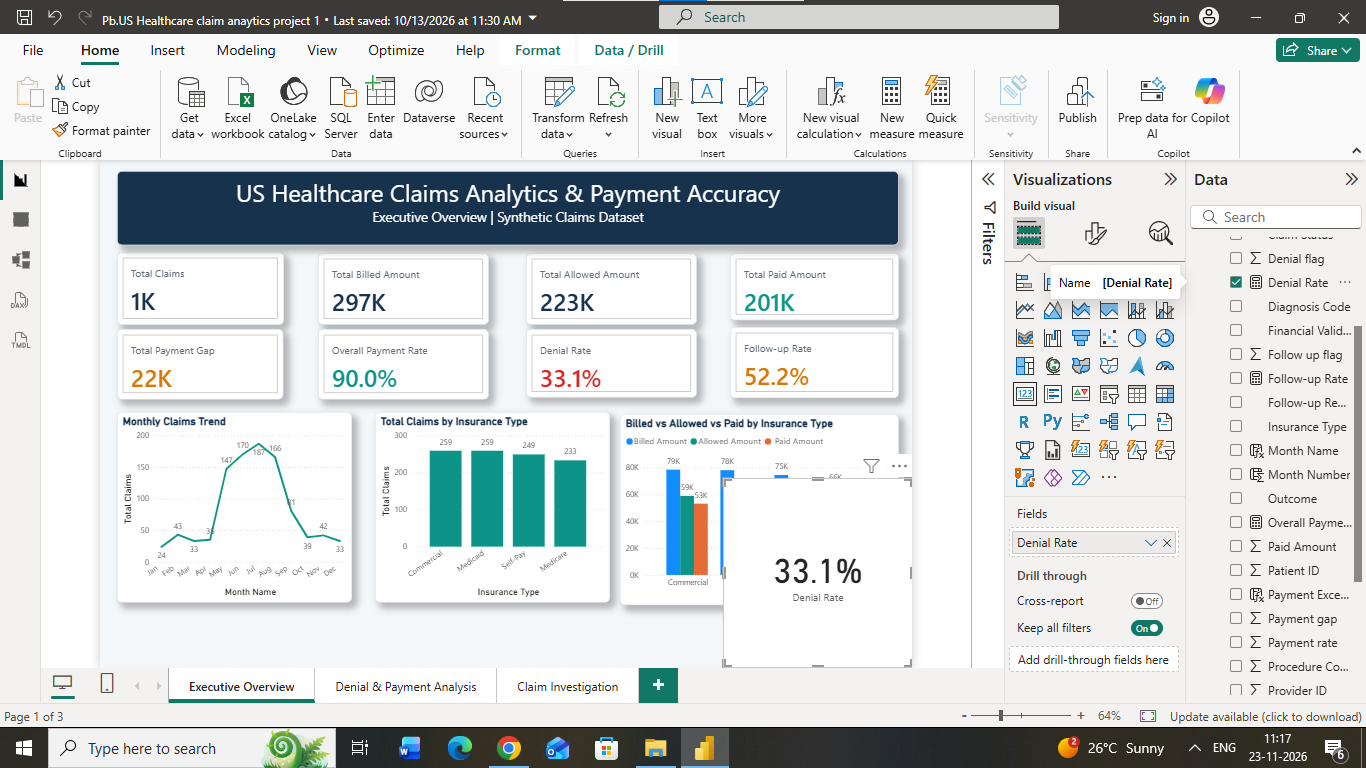

This screenshot's page, from the dashboard's own definition file:
{"tool":"powerbi","page":{"name":"Executive Overview","canvas":[1280,800],"ordinal":0},"visuals":[{"type":"cardVisual","fields":{"Data":["claim_data.Total Claims"]},"box":[26.8,144.9,263,115],"z":0},{"type":"cardVisual","fields":{"Data":["claim_data.Total Billed Amount","claim_data.Total Billed Amount"]},"box":[343,146,269.3,113.4],"z":1000},{"type":"cardVisual","fields":{"Data":["claim_data.Total Allowed Amount"]},"box":[670.4,146,269.3,113.4],"z":2000},{"type":"cardVisual","fields":{"Data":["claim_data.Total Paid Amount"]},"box":[992.1,146,266.5,106.3],"z":3000},{"type":"cardVisual","fields":{"Data":["claim_data.Total Payment Gap"]},"box":[27.4,266.4,262.1,110.9],"z":4000},{"type":"cardVisual","fields":{"Data":["claim_data.Overall Payment Rate"]},"box":[342.7,266.4,269.3,110.9],"z":5000},{"type":"cardVisual","fields":{"Data":["claim_data.Denial Rate"]},"box":[671,266.4,269.3,108],"z":6000},{"type":"cardVisual","fields":{"Data":["claim_data.Follow-up Rate"]},"box":[992.1,263,266.1,111.8],"z":7000},{"type":"textbox","box":[26.8,17.3,1231.5,116.5],"z":8000},{"type":"lineChart","title":"Monthly Claims Trend","fields":{"Y":["claim_data.Total Claims"],"Category":["claim_data.Month Name"]},"box":[26.9,396.9,370,300],"z":9000},{"type":"clusteredColumnChart","fields":{"Category":["claim_data.Insurance Type"],"Y":["claim_data.Total Claims"]},"box":[433.7,396.9,370,300],"z":10000},{"type":"clusteredColumnChart","title":" Billed vs Allowed vs Paid by Insurance Type","fields":{"Category":["claim_data.Insurance Type"],"Y":["Sum(claim_data.Billed Amount)","Sum(claim_data.Allowed Amount)","Sum(claim_data.Paid Amount)"]},"box":[818.9,400,439.4,300.8],"z":11000}]}

Visuals, with their boxes on the page's 1280x800 design canvas (x1, y1, x2, y2). These are canvas units, not pixel positions in the 1366x768 screenshot, which may show the page scaled, cropped or inside an application window:
cardVisual - claim_data.Total Claims: [27,145,290,260]
cardVisual - claim_data.Total Billed Amount x claim_data.Total Billed Amount: [343,146,612,259]
cardVisual - claim_data.Total Allowed Amount: [670,146,940,259]
cardVisual - claim_data.Total Paid Amount: [992,146,1259,252]
cardVisual - claim_data.Total Payment Gap: [27,266,290,377]
cardVisual - claim_data.Overall Payment Rate: [343,266,612,377]
cardVisual - claim_data.Denial Rate: [671,266,940,374]
cardVisual - claim_data.Follow-up Rate: [992,263,1258,375]
textbox: [27,17,1258,134]
"Monthly Claims Trend" lineChart: [27,397,397,697]
clusteredColumnChart - claim_data.Insurance Type x claim_data.Total Claims: [434,397,804,697]
" Billed vs Allowed vs Paid by Insurance Type" clusteredColumnChart: [819,400,1258,701]
